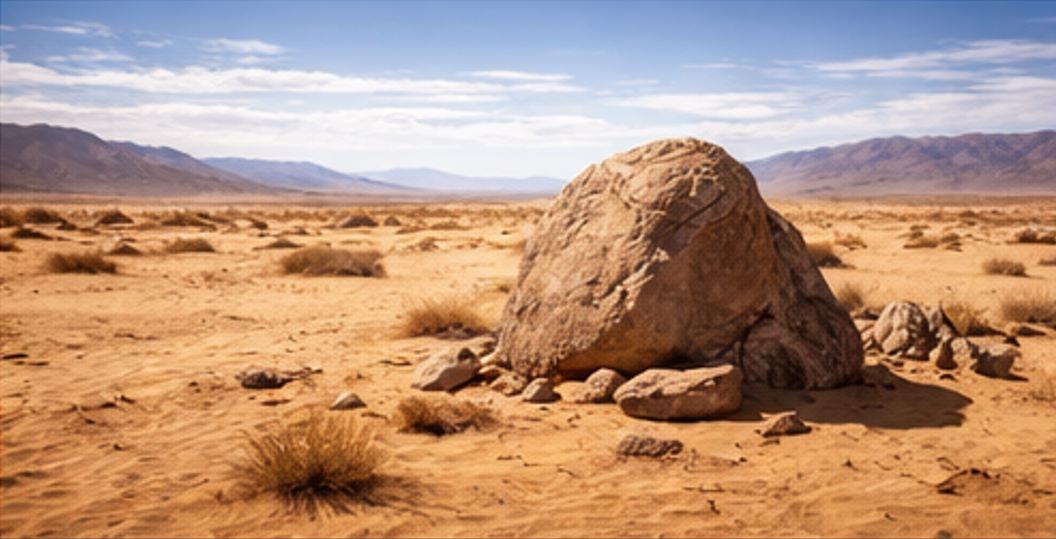rocks: (497, 138, 860, 387), (615, 365, 740, 419), (872, 300, 935, 359), (411, 347, 479, 389), (572, 368, 625, 402), (615, 433, 681, 457), (972, 344, 1018, 376), (759, 410, 810, 436), (520, 378, 559, 402), (328, 389, 364, 410)
